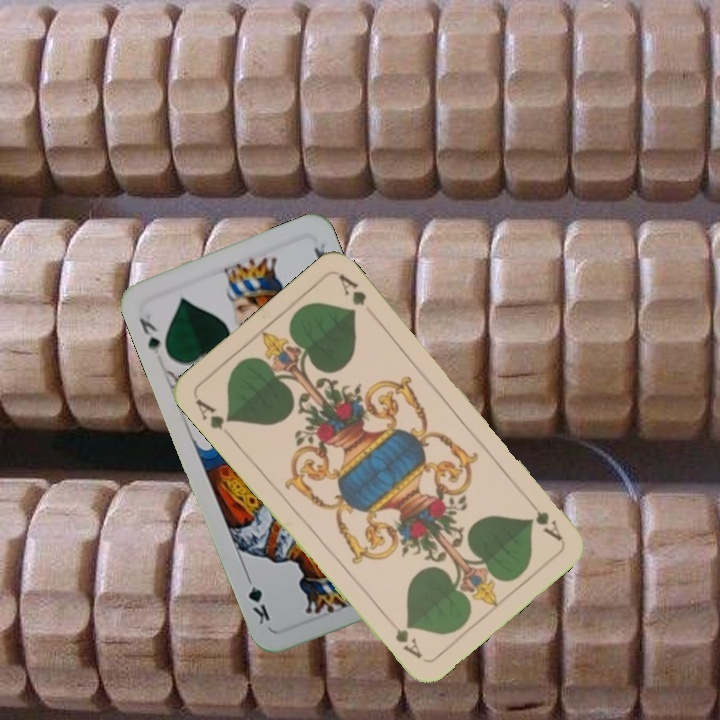GA: (522, 494, 565, 544), (191, 394, 235, 433)
GK: (135, 314, 163, 357)
